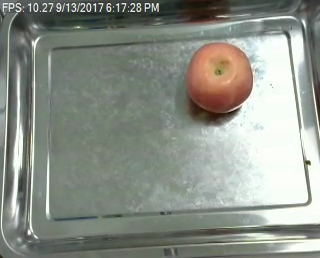Apple: (184, 42, 254, 114)
